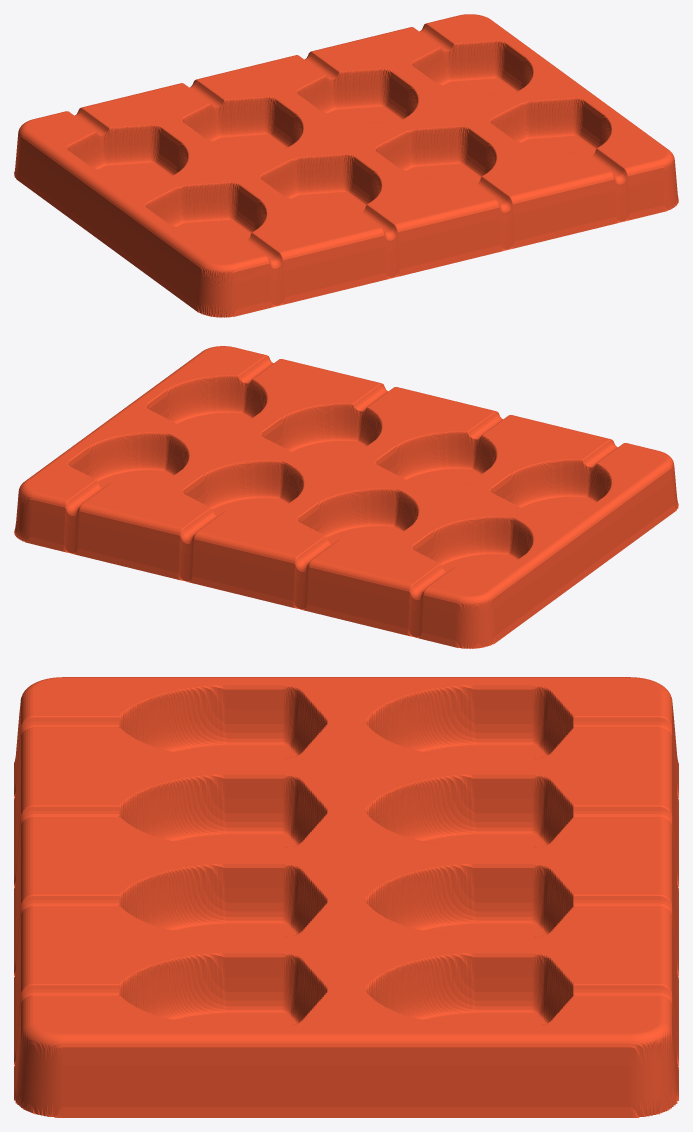
File: mold.glb
3 renders of one model, top to bottom at view 1: azimuth 30°, elevation 25°; view 2: azimuth 150°, elevation 25°; view 3: azimuth 270°, elevation 25°, orthographic. The views are drawn at different scales.
Parts seen in each view (by area): view 1: geometry_0; view 2: geometry_0; view 3: geometry_0.
Boxes of the visible parts, <box> form: geometry_0: <box>14,14,678,317</box>; geometry_0: <box>14,346,678,648</box>; geometry_0: <box>14,677,678,1117</box>.
Size of the model in its own units: 0.1626 by 0.0155 by 0.1229.
